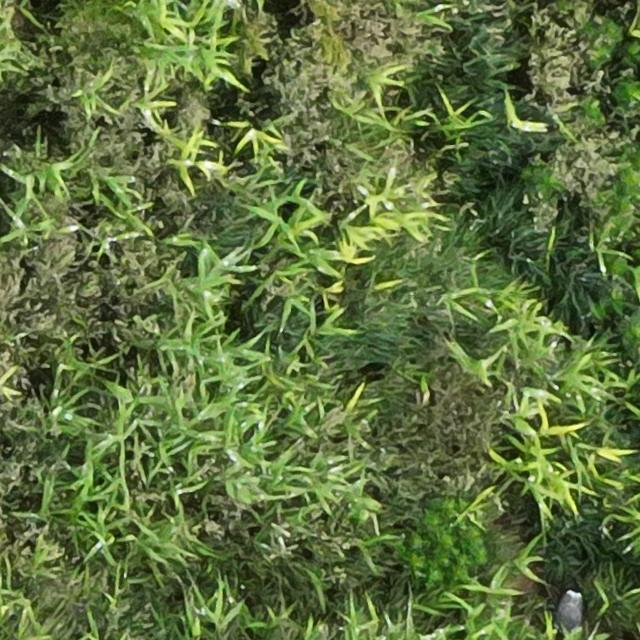umineko: (559, 592, 582, 631)
